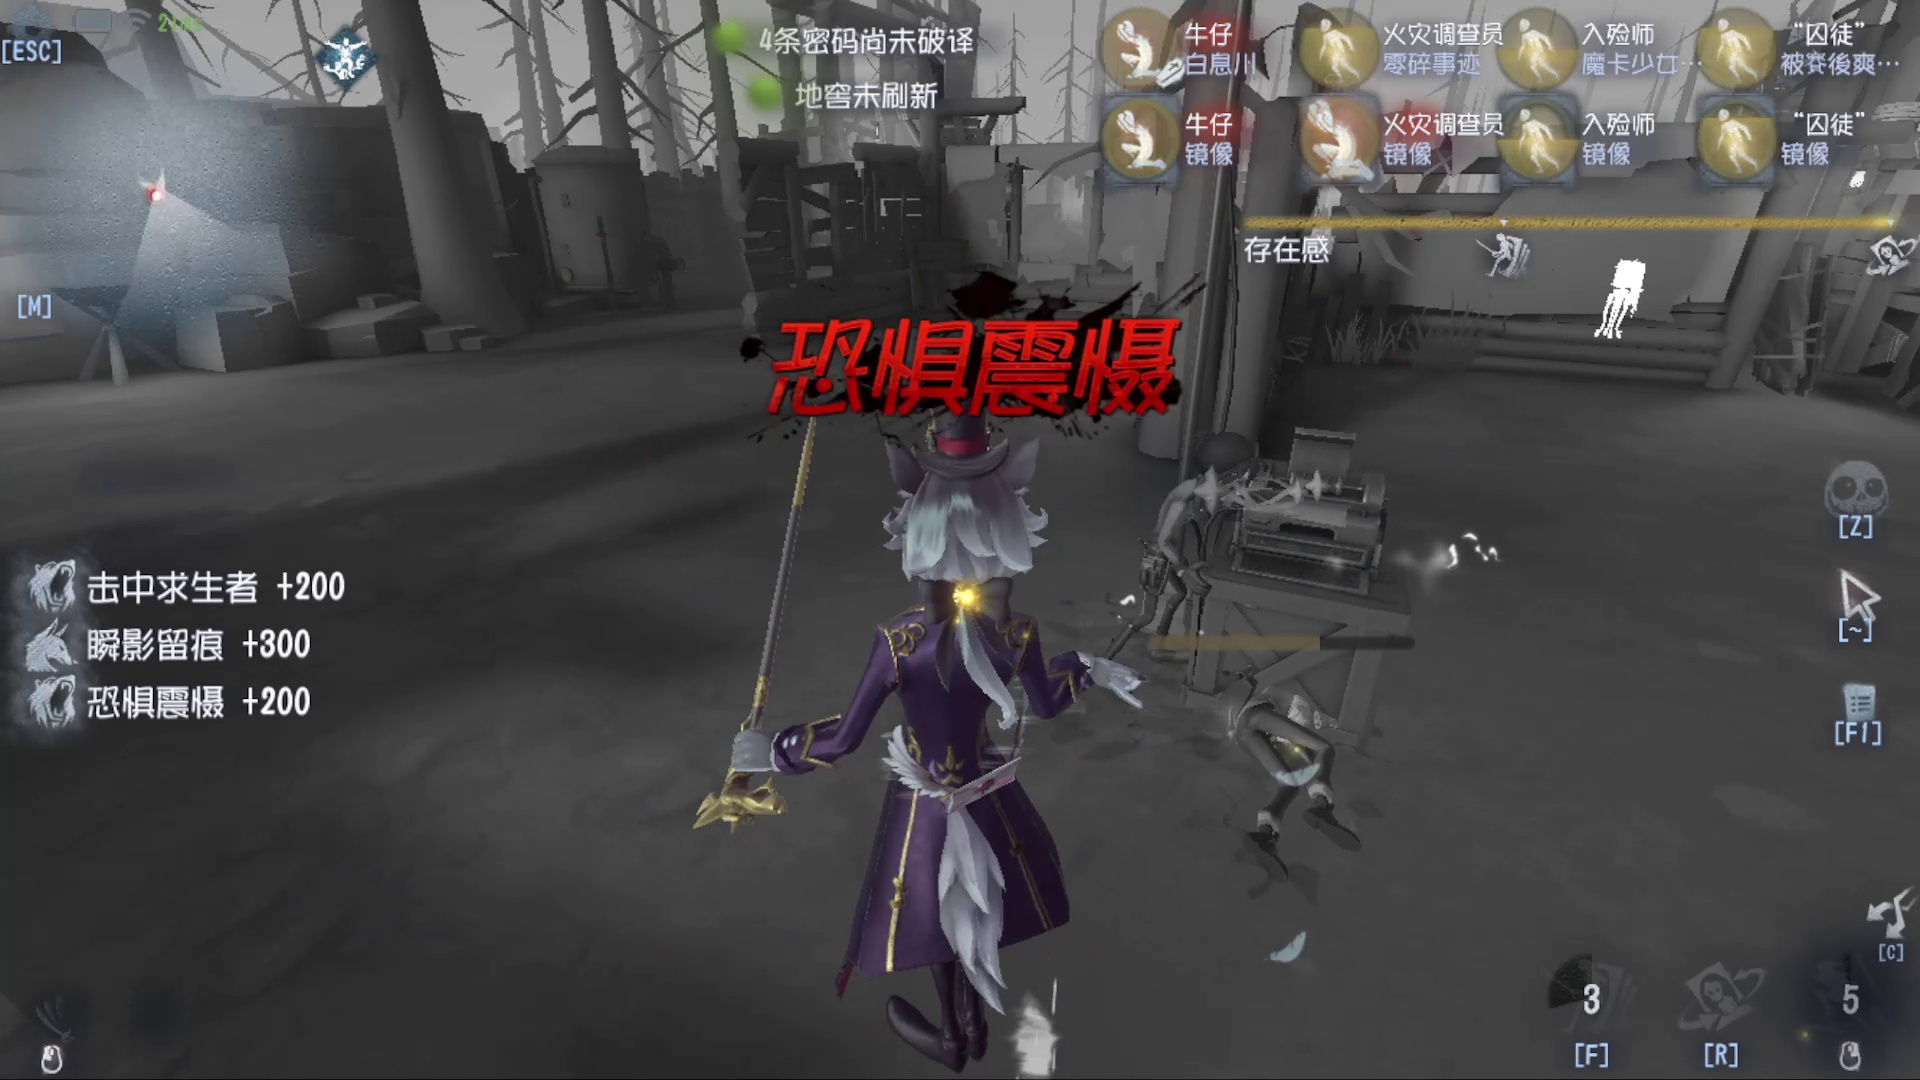求生者: (1203, 669, 1385, 878), (1127, 419, 1203, 682)
